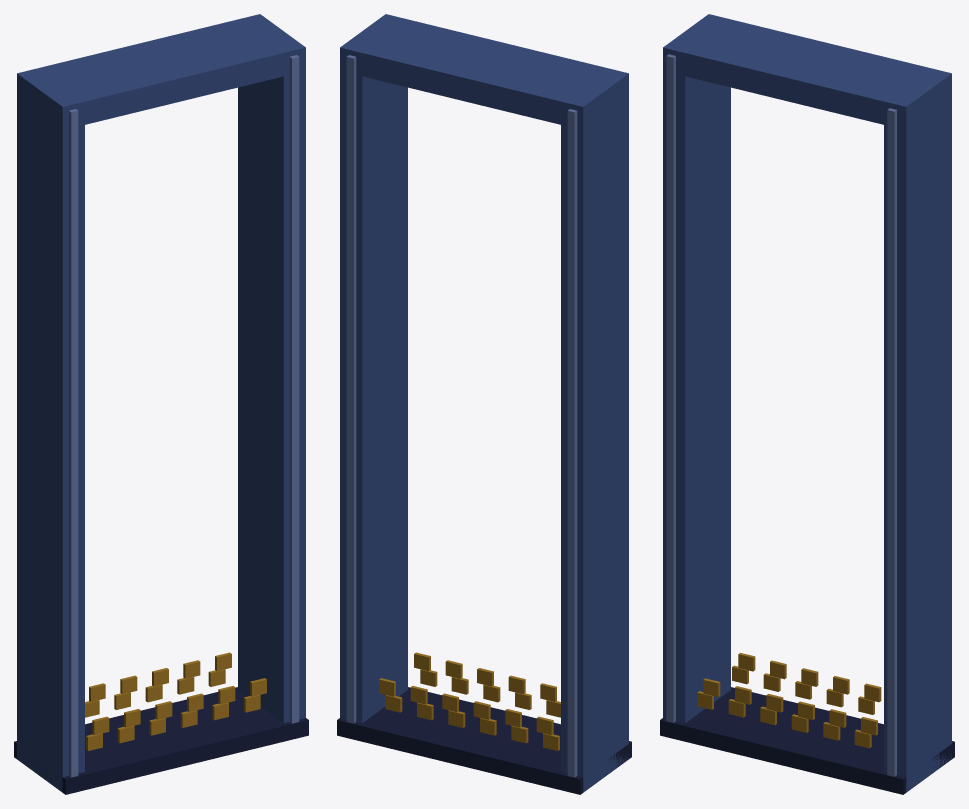
The model's file is CMU3DSingleComDoorOpen.glb.
3 views of the same model, side by side, from view 1: azimuth 30°, elevation 25°; view 2: azimuth 150°, elevation 25°; view 3: azimuth 330°, elevation 25° (orthographic).
Visible parts, largest first — view 1: door jamb (×2), header, jamb raised edge (×2), threshold; view 2: door jamb (×2), header, jamb raised edge (×2), threshold; view 3: door jamb (×2), header, jamb raised edge (×2), threshold.
Part boxes in pixels (x1,y1,x2,y2): door jamb (×2): (17,14,305,792); header: (17,14,305,129); jamb raised edge (×2): (68,55,299,777); threshold: (14,687,308,794); door jamb (×2): (340,14,628,792); header: (340,14,628,129); jamb raised edge (×2): (346,55,577,777); threshold: (337,687,631,794); door jamb (×2): (663,14,951,792); header: (663,14,951,129); jamb raised edge (×2): (666,54,896,776); threshold: (660,687,954,794).
Bounding box in the file's own units: 0.98 × 2.64 × 0.36.
